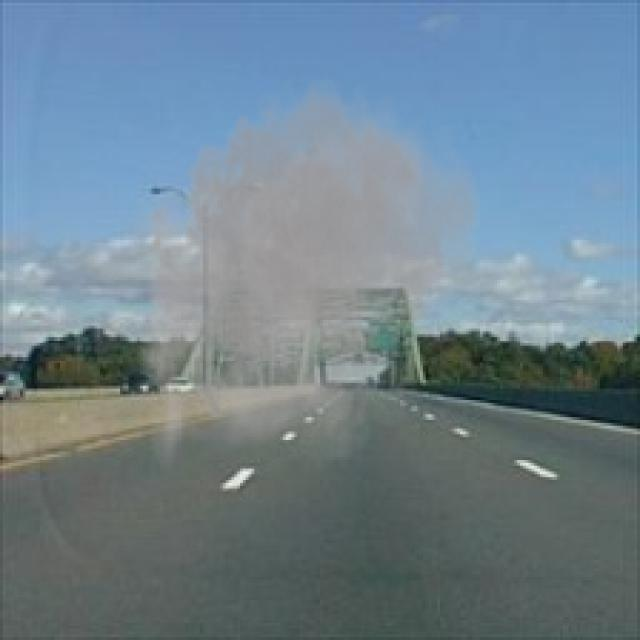Smoke: (120, 66, 492, 483)
